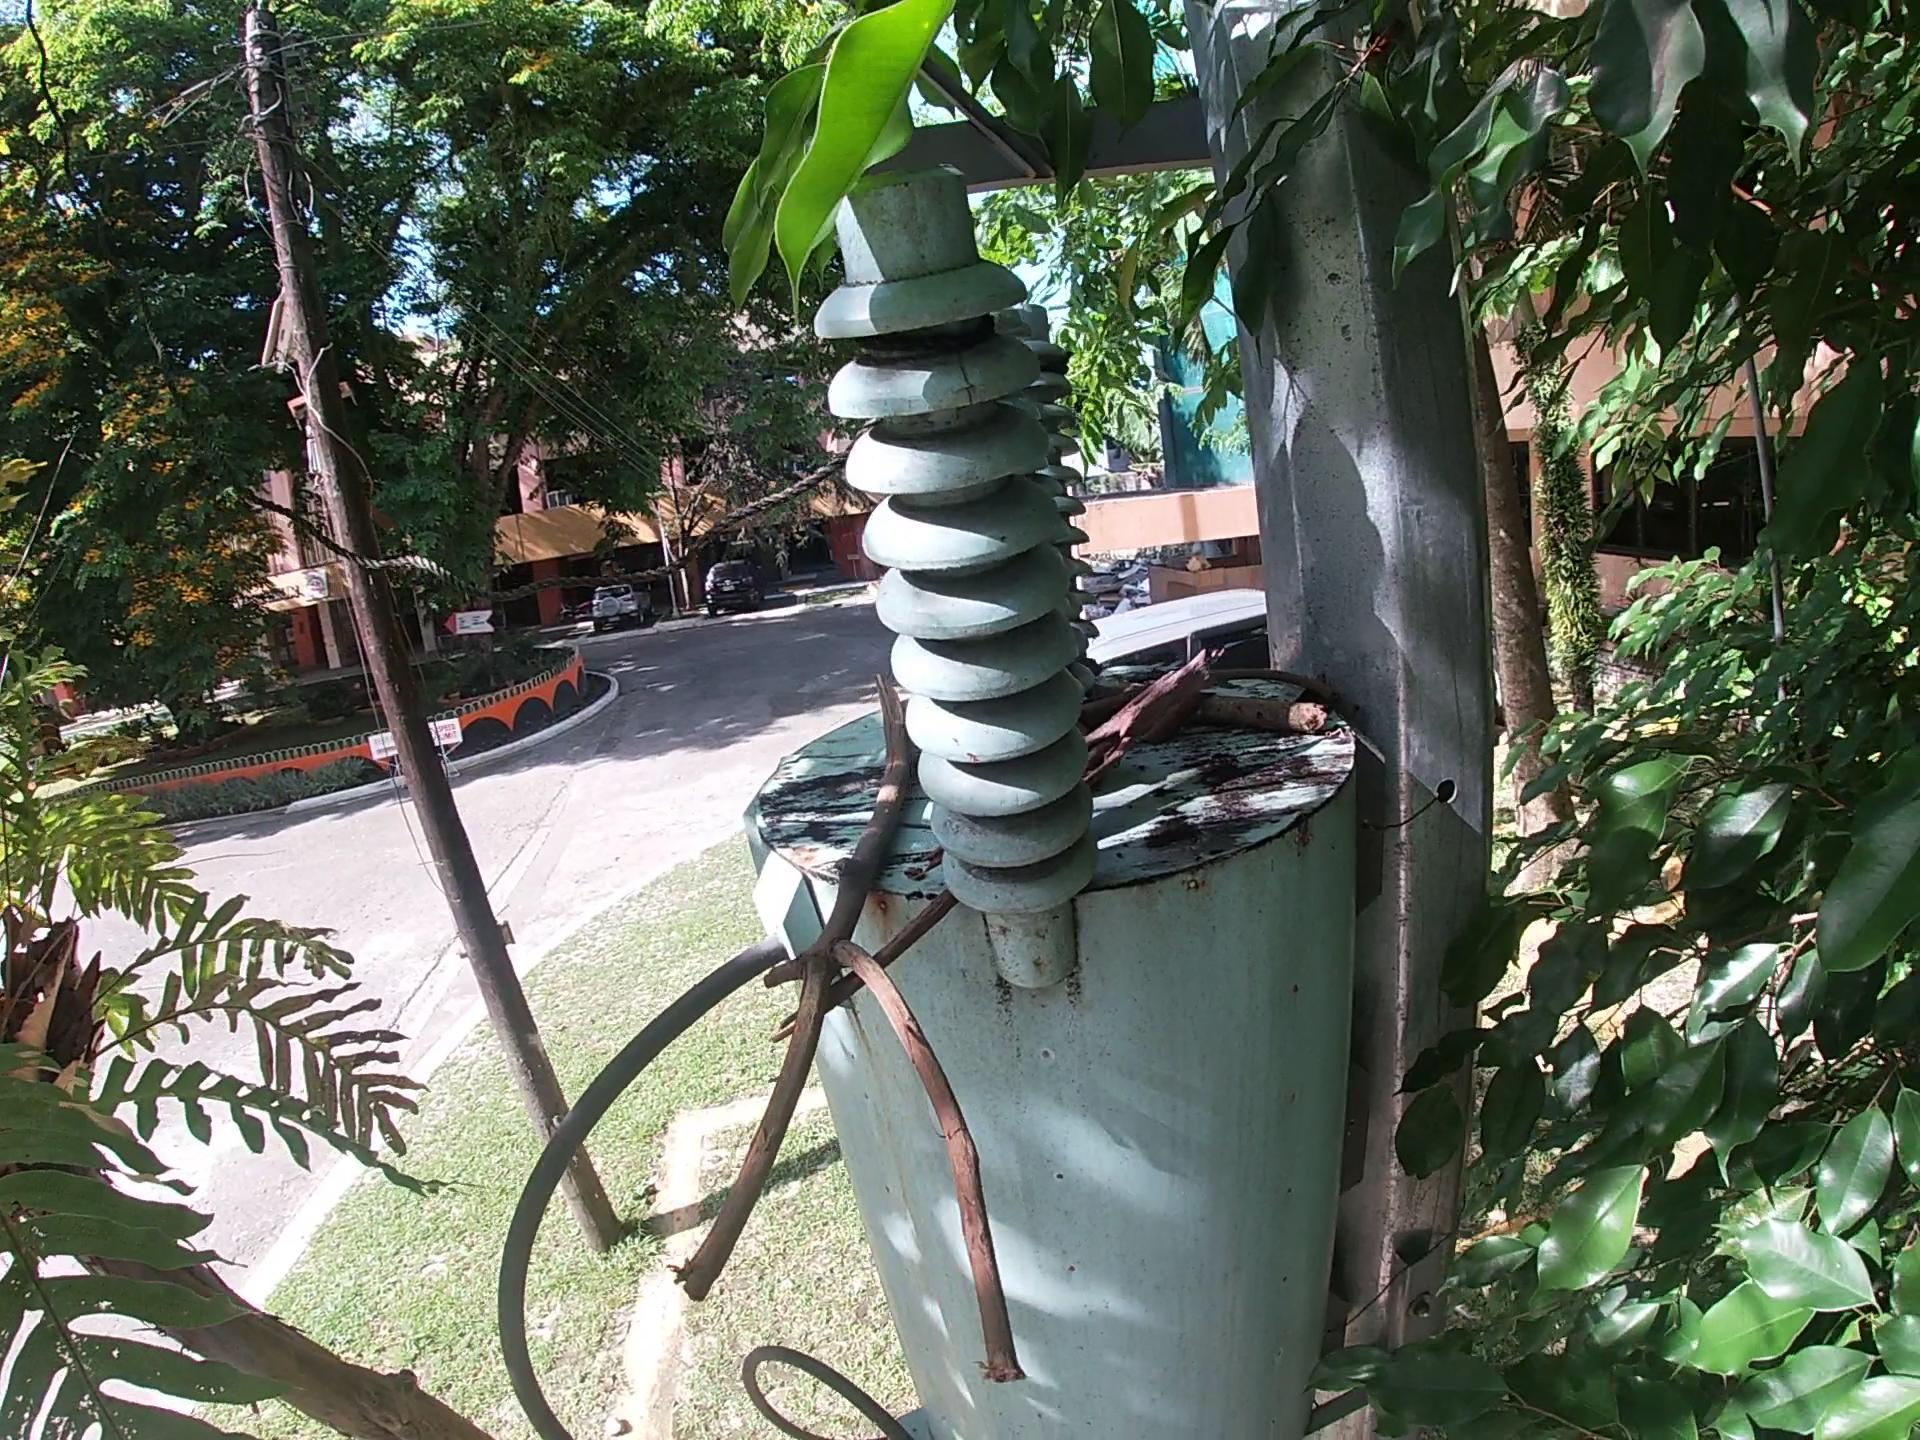leaf: (1132, 690, 1209, 753)
tree branch: (661, 663, 1051, 1405), (763, 886, 965, 1047), (1078, 646, 1223, 793), (1085, 681, 1327, 735), (1209, 659, 1349, 703)
